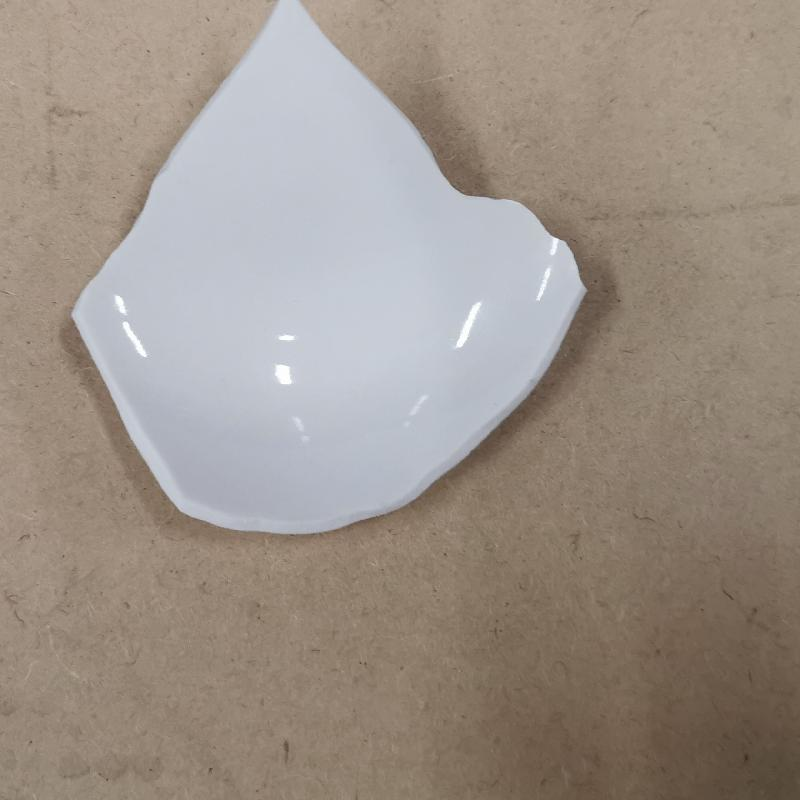ceram: (67, 2, 588, 539)
